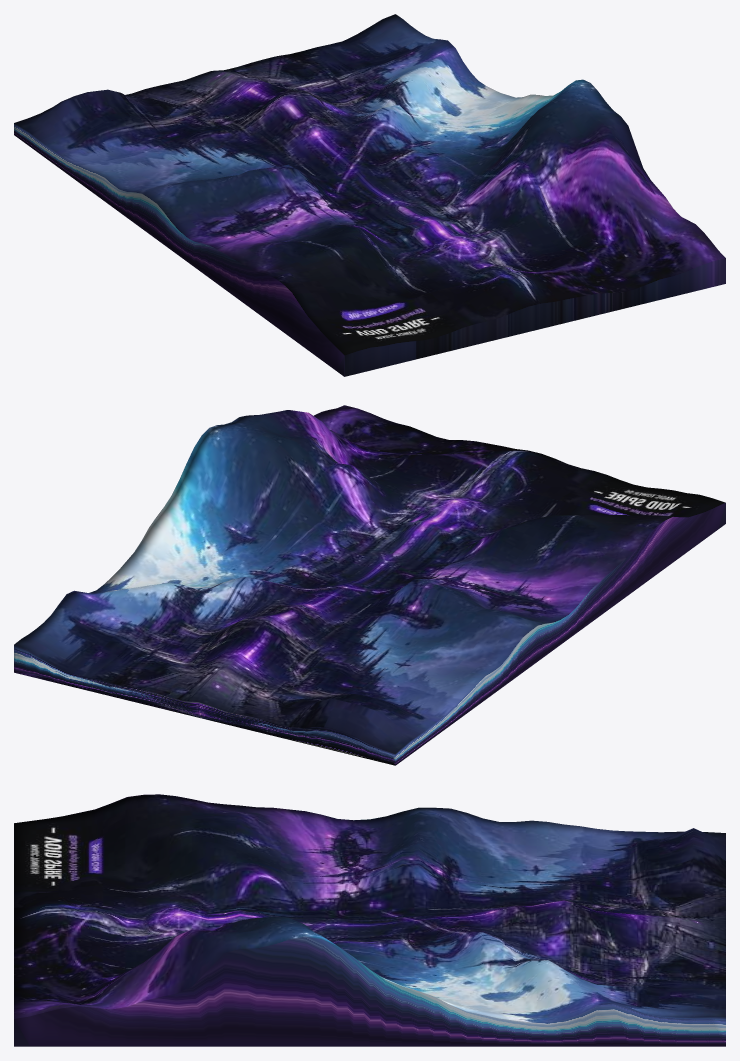
Rendered from TOWER_06_Void_Spire.glb.
3 renders of one model, top to bottom at view 1: azimuth 30°, elevation 25°; view 2: azimuth 150°, elevation 25°; view 3: azimuth 270°, elevation 25°, orthographic. The views are drawn at different scales.
Visible parts, largest first — view 1: TOWER_06_Void_Spire; view 2: TOWER_06_Void_Spire; view 3: TOWER_06_Void_Spire.
Boxes of the visible parts, bbox=[...] form: TOWER_06_Void_Spire: bbox=[14, 14, 725, 376]; TOWER_06_Void_Spire: bbox=[14, 405, 725, 765]; TOWER_06_Void_Spire: bbox=[14, 794, 725, 1046].
Bounding box in the file's own units: 2 × 0.51 × 3.
1 material, 1 textured.
